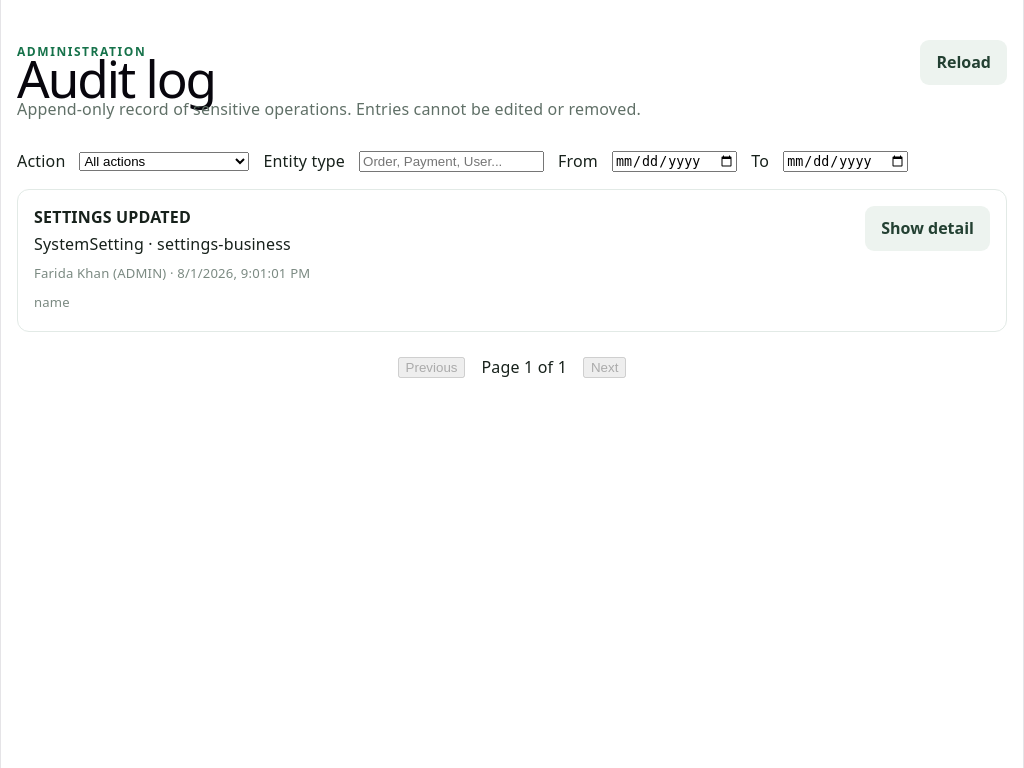
Test: AuditLogViewer › lists records and expands the recorded detail on demand
Check: the text "SETTINGS UPDATED" is shown, box [34, 206, 191, 228]
Check: the text "Farida Khan (ADMIN) · 8/1/2026, 9:01:01 PM" is shown, box [34, 262, 310, 285]
Step 1. Click the button "Show detail" → (928, 228), box [865, 206, 990, 251]
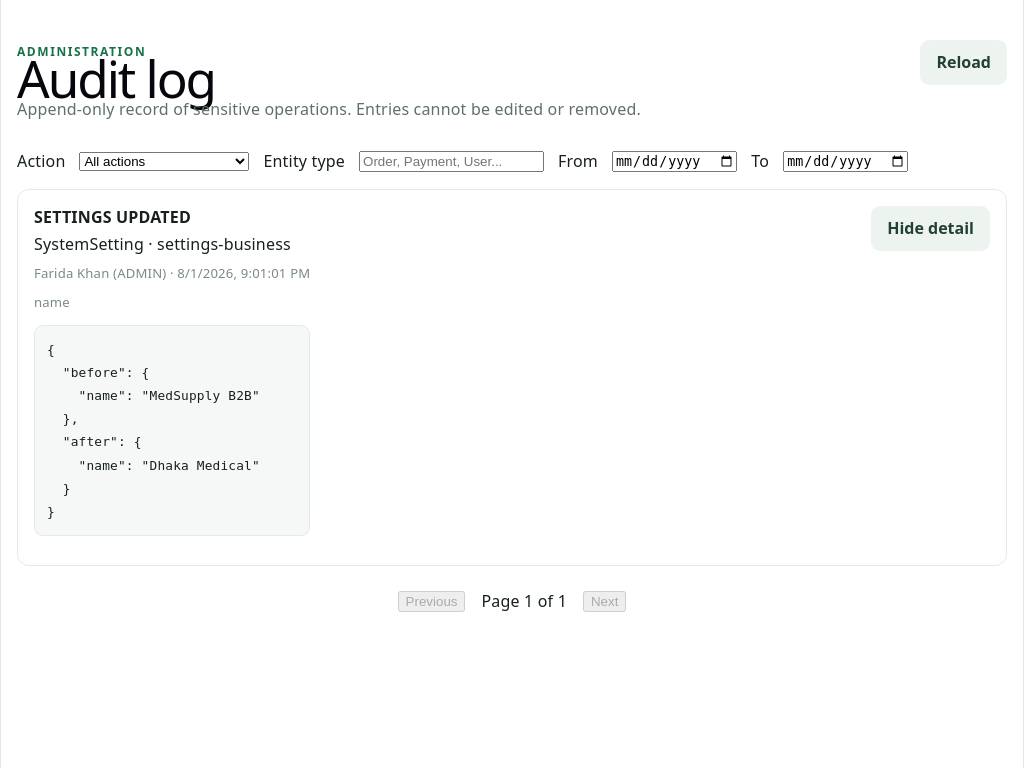
Check: the text "Dhaka Medical" is shown, box [47, 342, 260, 519]
